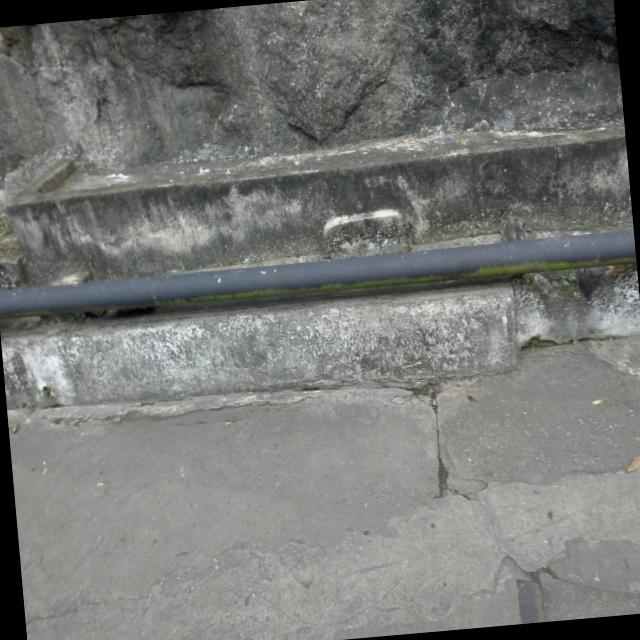gas: (0, 231, 636, 317)
